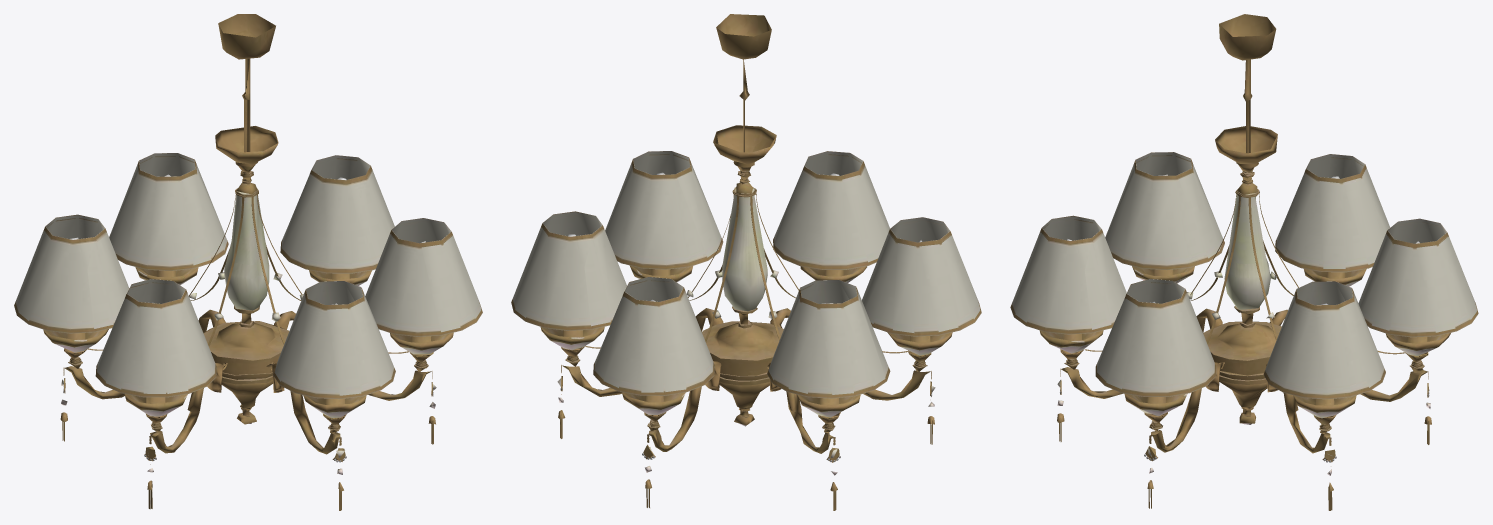
The model's file is Chandelier_01.glb.
3 views of the same model, side by side, from view 1: azimuth 30°, elevation 25°; view 2: azimuth 150°, elevation 25°; view 3: azimuth 270°, elevation 25° (orthographic).
Visible parts, largest first — view 1: Chandelier_01; view 2: Chandelier_01; view 3: Chandelier_01.
Part boxes in pixels (bbox=[...]): Chandelier_01: bbox=[14, 14, 482, 510]; Chandelier_01: bbox=[511, 14, 981, 510]; Chandelier_01: bbox=[1010, 14, 1478, 510].
Size of the model in its own units: 0.7465 by 0.7982 by 0.8155.
2 materials, 1 textured.
